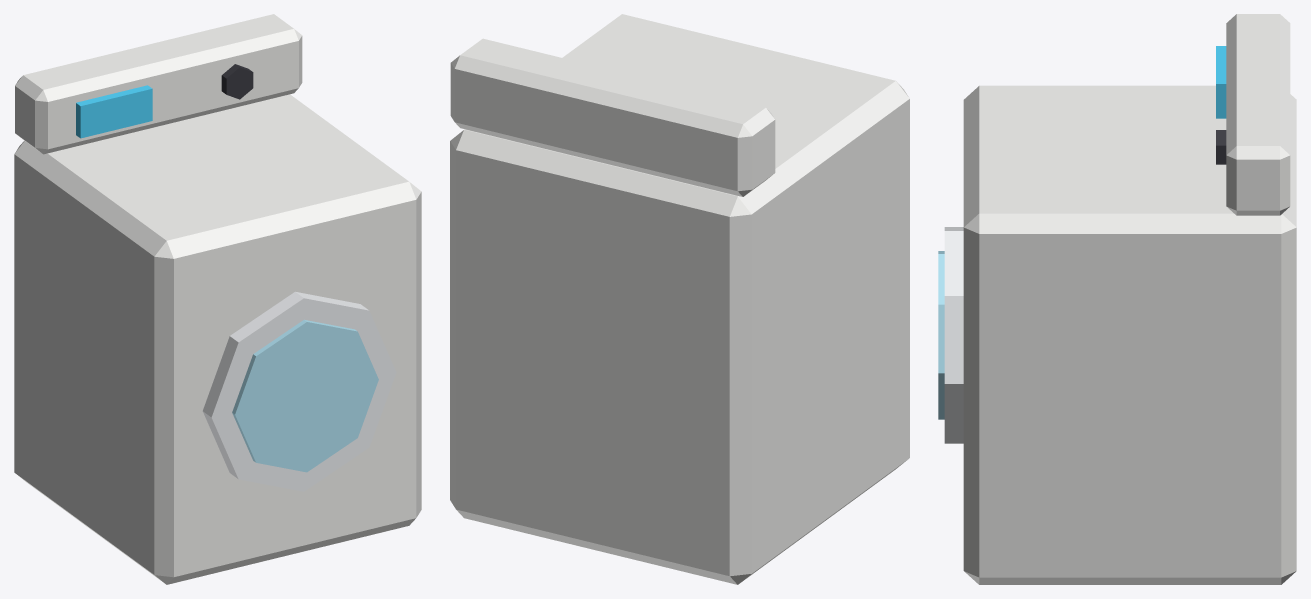
File: Washer.fbx
3 views of the same model, side by side, from view 1: azimuth 30°, elevation 25°; view 2: azimuth 150°, elevation 25°; view 3: azimuth 270°, elevation 25° (orthographic). The views are drawn at different scales.
Visible parts, largest first — view 1: Washer; view 2: Washer; view 3: Washer.
Part boxes in pixels (<box>): Washer: <box>14,14,421,584</box>; Washer: <box>450,14,909,584</box>; Washer: <box>938,14,1296,584</box>.
Size of the model in its own units: 2.6 by 3.8 by 2.8.
1 material, 1 textured.
